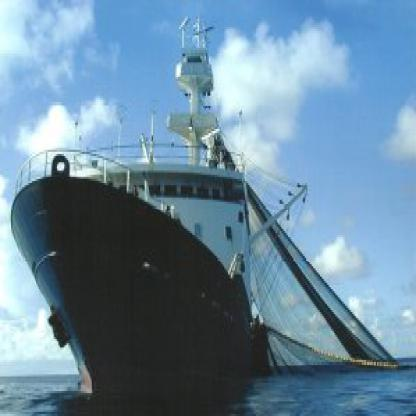fish-b: (6, 10, 274, 414)
